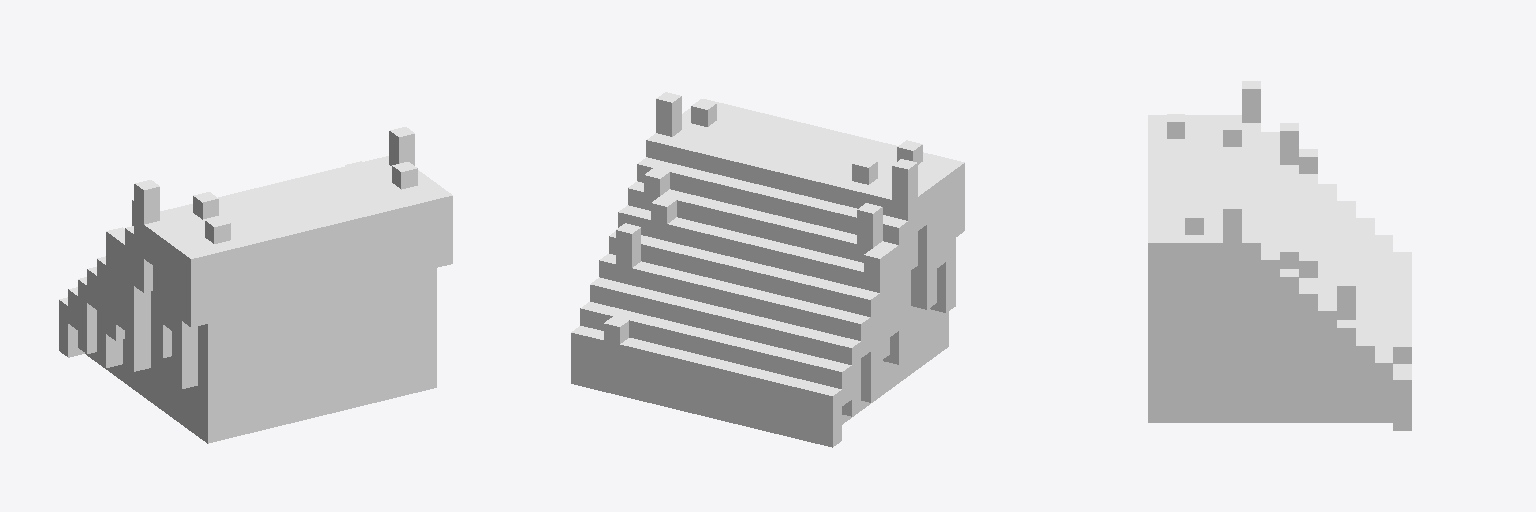
The model's file is sueloPlataform-3.obj.
3 renders of one model, left to right at view 1: azimuth 30°, elevation 25°; view 2: azimuth 150°, elevation 25°; view 3: azimuth 270°, elevation 25°, orthographic.
Visible parts, largest first — view 1: object 1; view 2: object 1; view 3: object 1.
Boxes of the visible parts, box(x1,y1,x2,y2) form: object 1: box(59, 127, 452, 443); object 1: box(571, 92, 964, 447); object 1: box(1148, 81, 1411, 430).
Size of the model in its own units: 1.6 by 1.3 by 1.4.